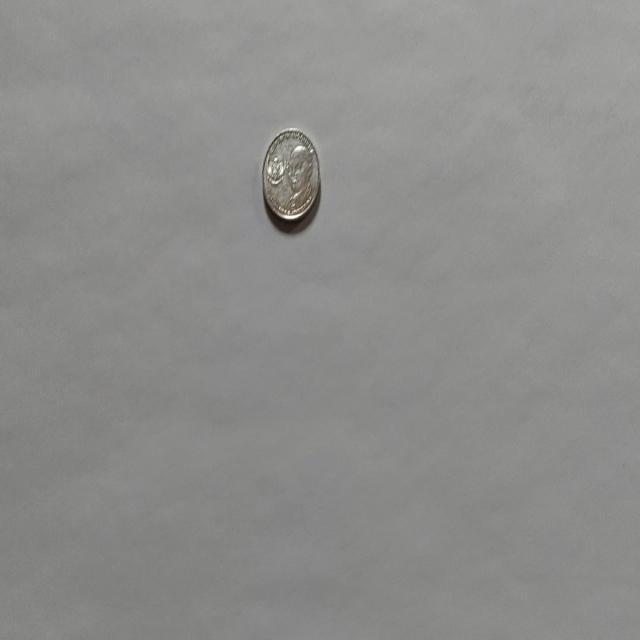lima ratus rupiah: (260, 125, 322, 224)
